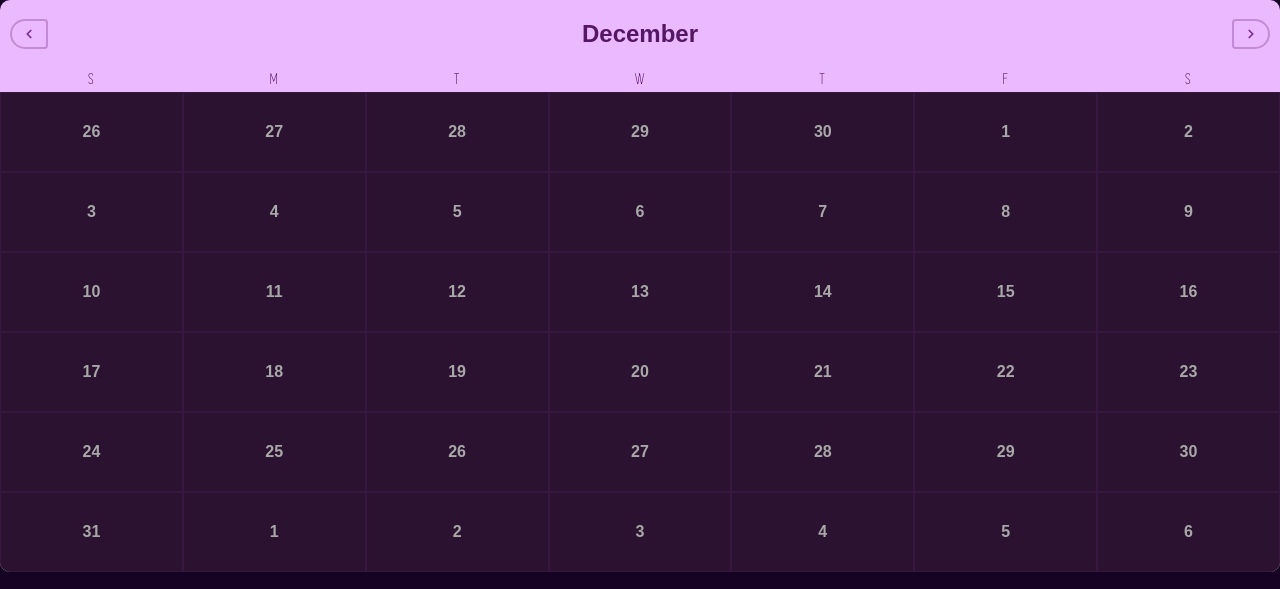
Test: month navigation › advances the header label on next-month click
The image size is (1280, 589).
Expected: the heading "December" is shown, [582,20,698,47]
Click the button named "Next month".
click(1251, 34)  # box [1232,19,1270,49]
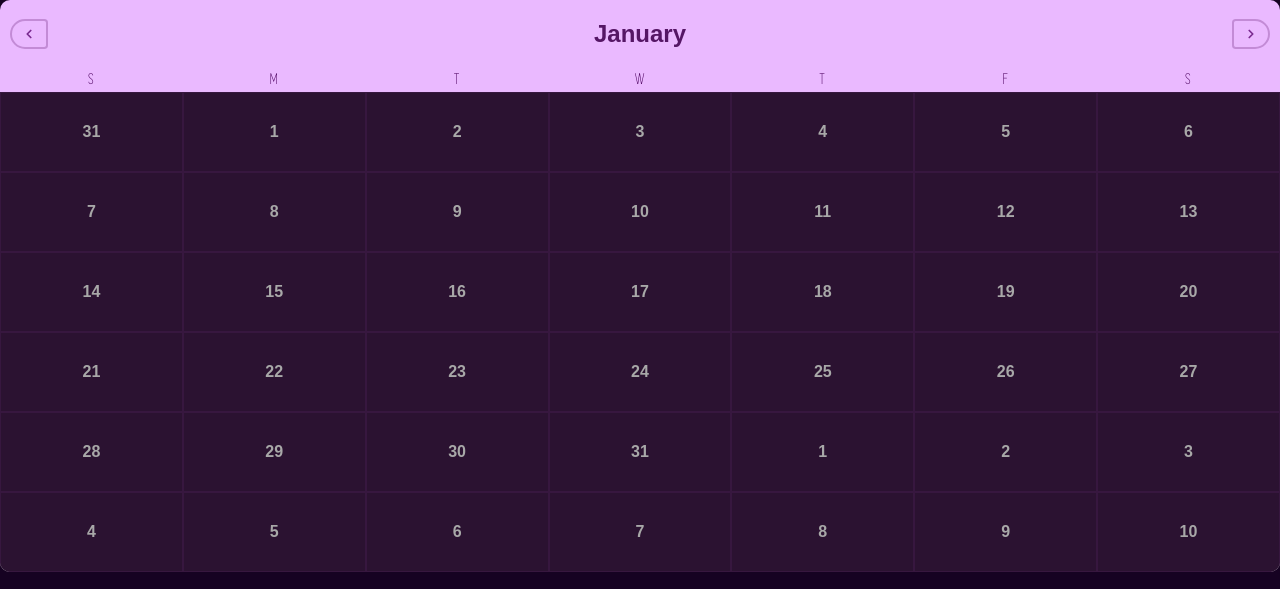
Expected: the heading "January" is shown, [594,20,686,47]
